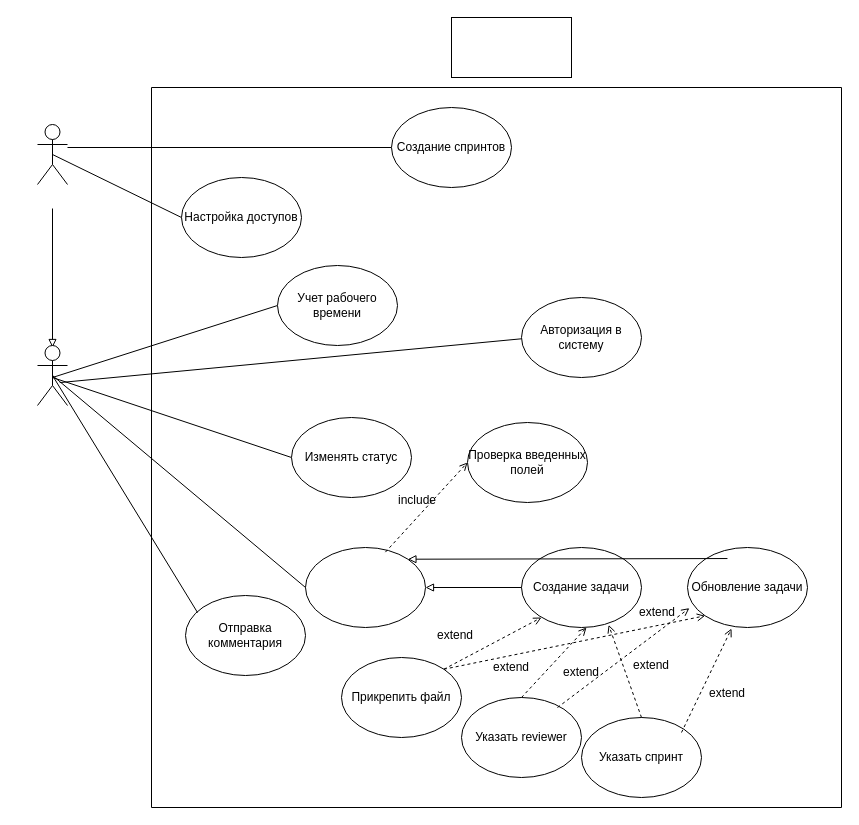
The diagram is 859 pixels wide and 825 high, and some of its shapes have lost their labels. The shapes that lost their labels are listed below. From the top down, each one's box as (x1, y1, x2, y2) in pixels, then its label:
(450, 16, 572, 78): TaskTraсker
(36, 124, 68, 184): админ
(36, 344, 68, 406): исполнитель
(304, 546, 426, 628): Управление задачами
